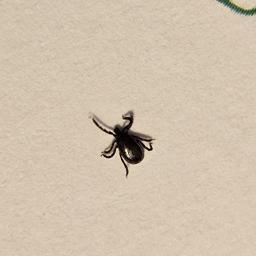Ixodes scapularis: (92, 115, 153, 175)
